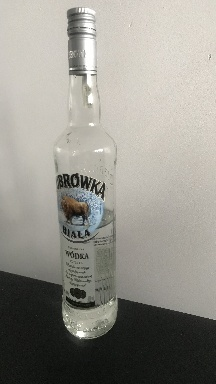butelka: (51, 3, 119, 341)
